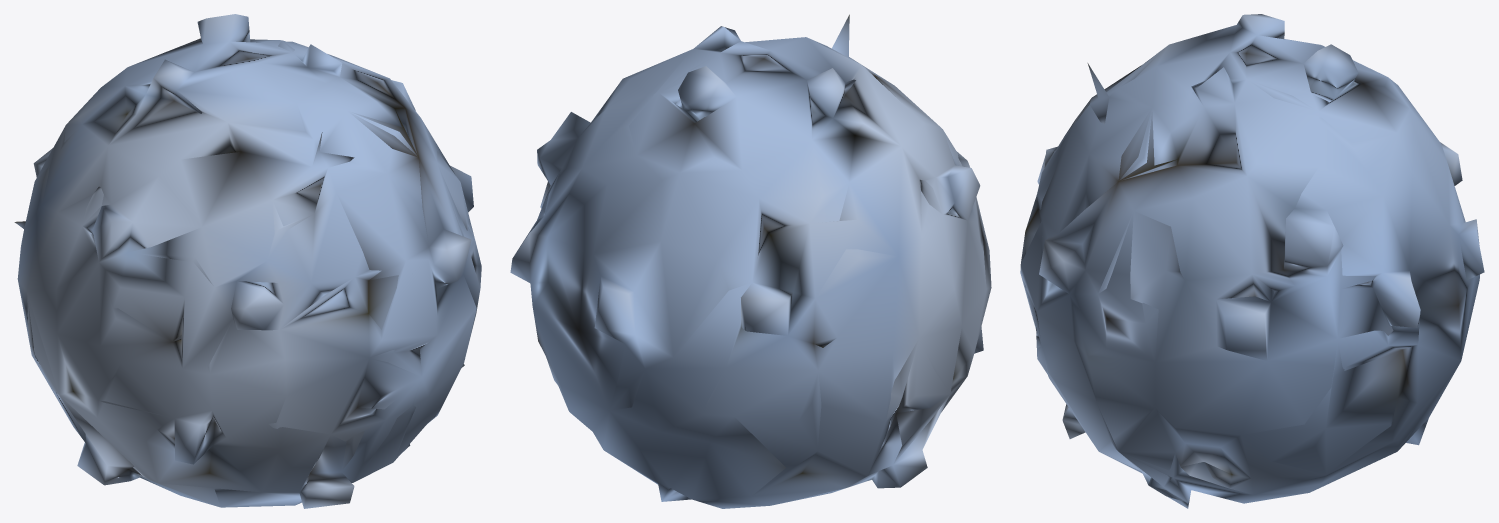
File: gen3d-giant-snowball-lod1.glb
3 views of the same model, side by side, from view 1: azimuth 30°, elevation 25°; view 2: azimuth 150°, elevation 25°; view 3: azimuth 270°, elevation 25° (orthographic).
Visible parts, largest first — view 1: part_0; view 2: part_0; view 3: part_0.
Part boxes in pixels (left/top/right/bottom): part_0: left=14, top=14, right=481, bottom=508; part_0: left=510, top=14, right=991, bottom=508; part_0: left=1020, top=14, right=1484, bottom=508.
Bounding box in the file's own units: 0.9689 × 1 × 0.9534.
